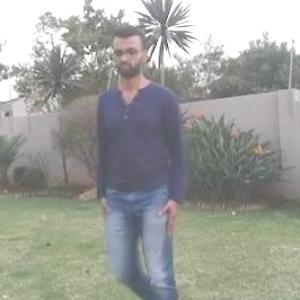follow: (120, 36, 188, 299)
